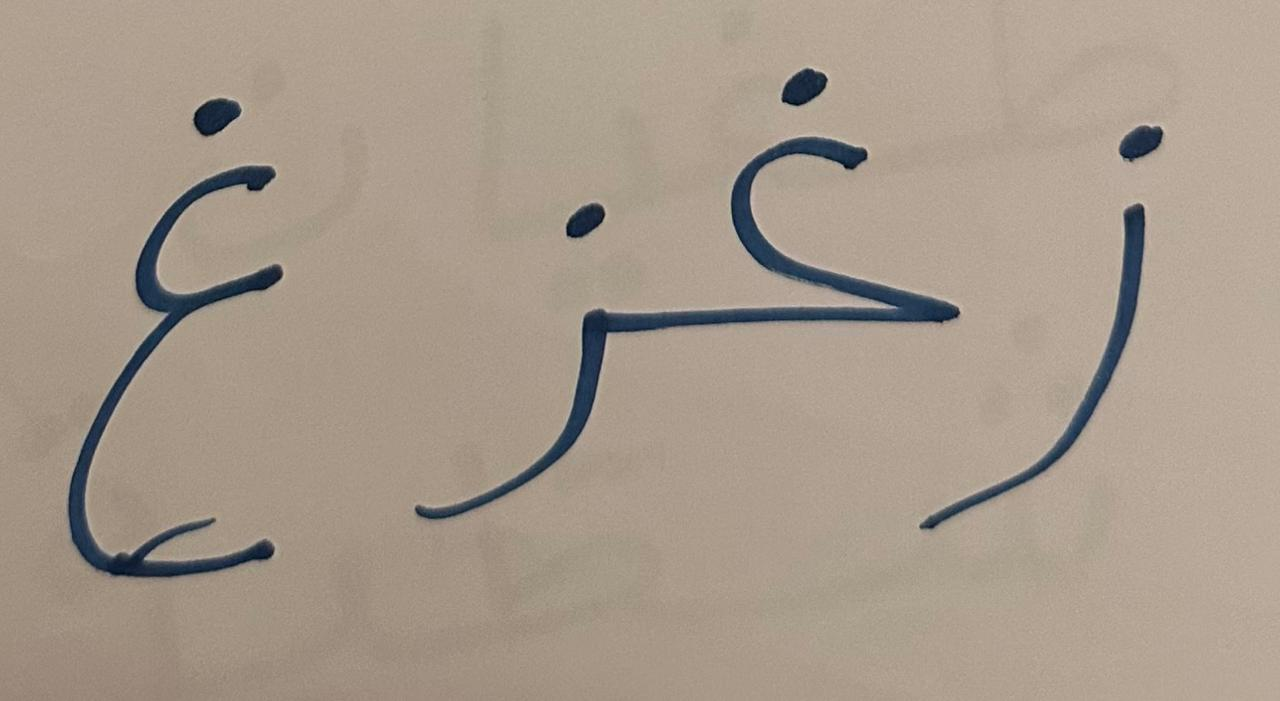ghain: (20, 36, 358, 603), (661, 29, 971, 410)
hamza: (976, 58, 1234, 558), (364, 123, 657, 558)
